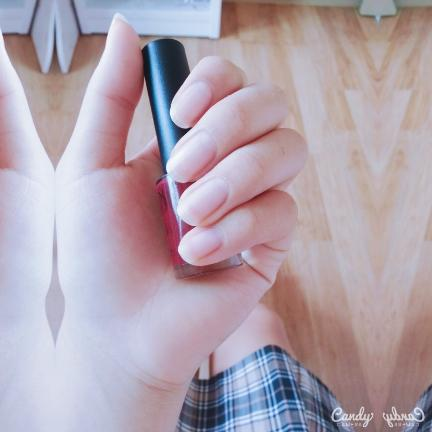Nail: (165, 131, 217, 183), (179, 178, 230, 225), (170, 81, 211, 129), (180, 226, 223, 259)
